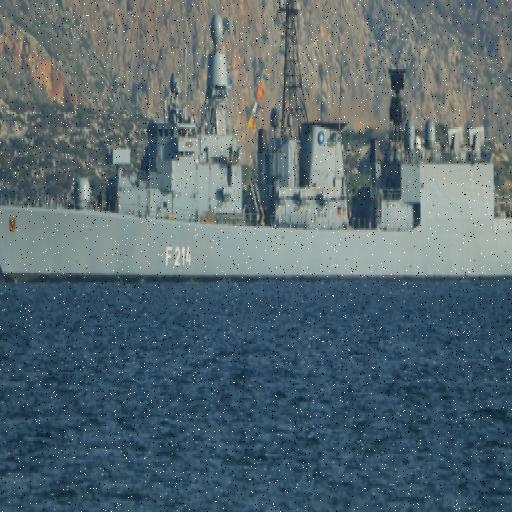Fragata: (1, 1, 512, 289)
